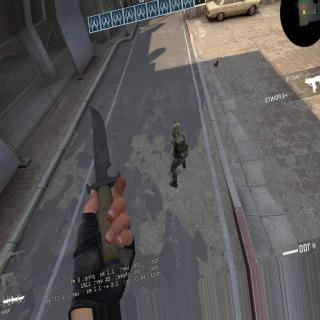CT-Body: (167, 120, 188, 178)
CT-Head: (171, 122, 181, 138)
